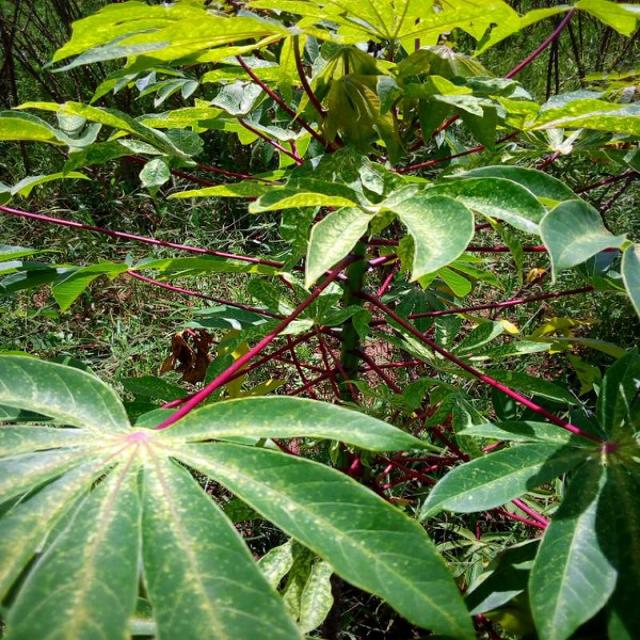cassava leaf: (0, 349, 475, 638)
